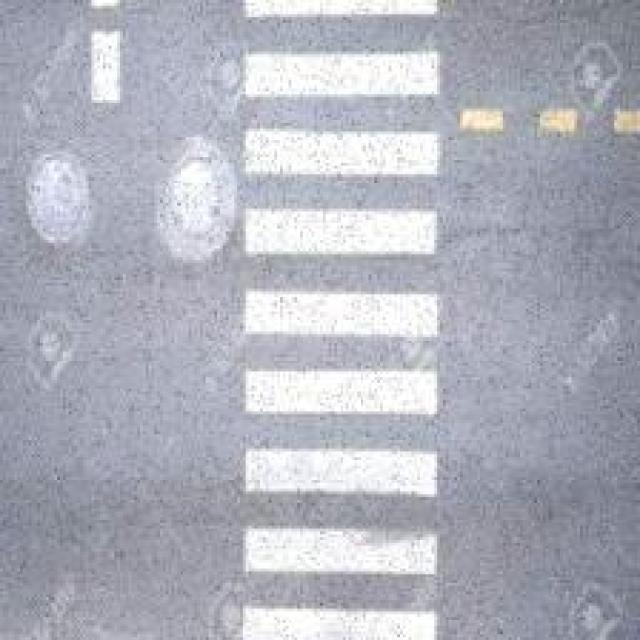walk-crossing: (220, 2, 453, 637)
